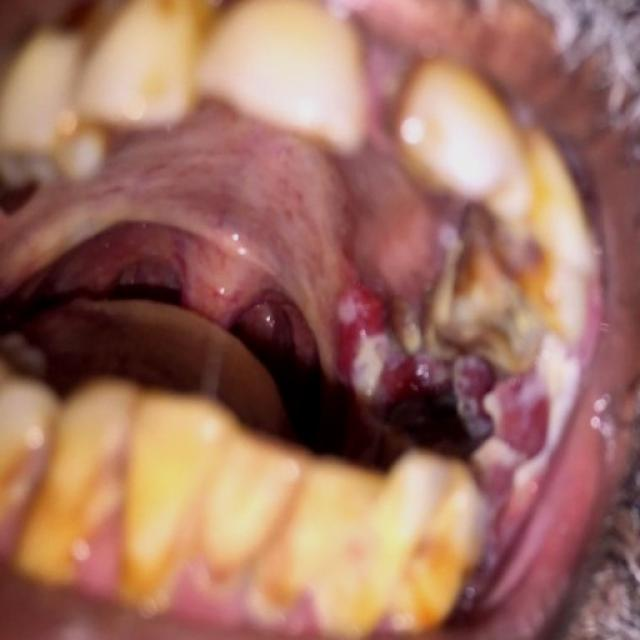cancer-detection: (334, 265, 581, 527)
processing_area: (2, 99, 576, 603)
